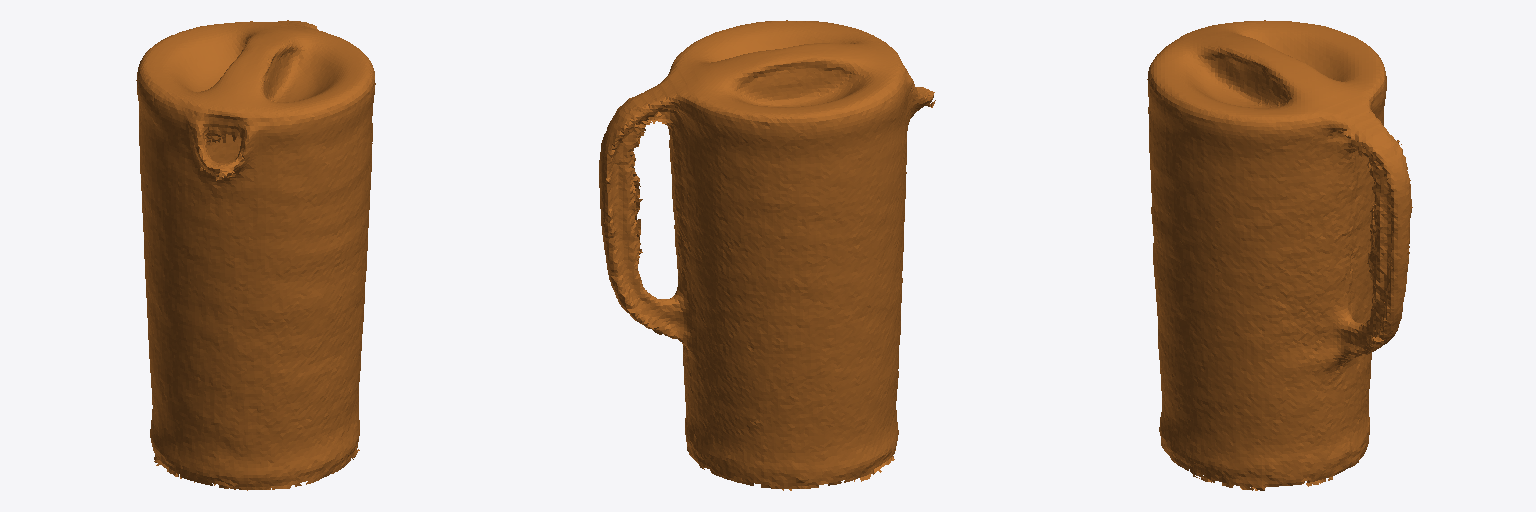
The robot description file, URDF, robot "rubbermaid_ice_guard_pitcher_blue":
<robot name="rubbermaid_ice_guard_pitcher_blue">
  <link name="rubbermaid_ice_guard_pitcher_blue">
    <collision>
      <geometry>
        <mesh filename="rubbermaid_ice_guard_pitcher_mesh.stl" />
      </geometry>
    </collision>
    <visual>
      <geometry>
        <mesh filename="new_pitcher.stl" />
      </geometry>
      <material name="gray">
        <color rgba="0.72 0.45 0.2 1.0"/>
      </material>
    </visual>
  </link>
</robot>

--- Render facts (derived) ---
The picture shows the robot from 3 angles, left to right: view 1: azimuth 30°, elevation 25°; view 2: azimuth 150°, elevation 25°; view 3: azimuth 270°, elevation 25°; orthographic projection.
Robot: rubbermaid_ice_guard_pitcher_blue — 1 links, 0 joints (none); root link rubbermaid_ice_guard_pitcher_blue; default pose: every joint at zero.
Links seen in each view (by area): view 1: rubbermaid_ice_guard_pitcher_blue; view 2: rubbermaid_ice_guard_pitcher_blue; view 3: rubbermaid_ice_guard_pitcher_blue.
Boxes of the visible links, box(x1,y1,x2,y2) form: rubbermaid_ice_guard_pitcher_blue: box(136, 20, 375, 490); rubbermaid_ice_guard_pitcher_blue: box(599, 20, 935, 490); rubbermaid_ice_guard_pitcher_blue: box(1147, 20, 1412, 490).
Size in the robot's own frame: 0.1433 by 0.1444 by 0.2377 metres.
Meshes: 1 distinct files referenced, 1 mesh visuals loaded (1 binary STL).